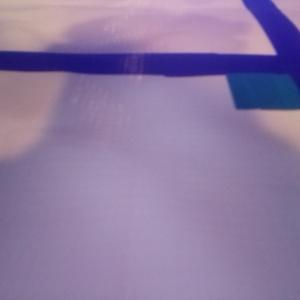bottom_left: (227, 56, 300, 109)
